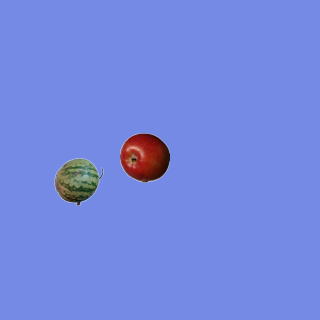Apple Braeburn: (119, 132, 169, 182)
Watermelon: (53, 156, 103, 206)
